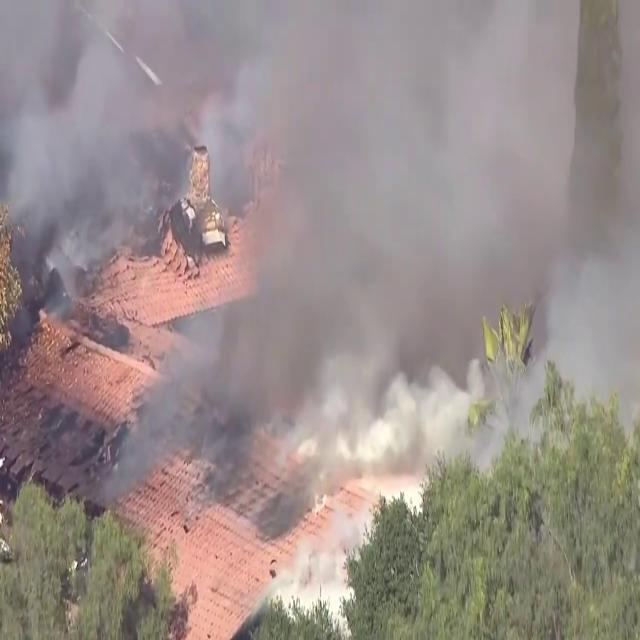Smoke: (3, 0, 640, 556)
